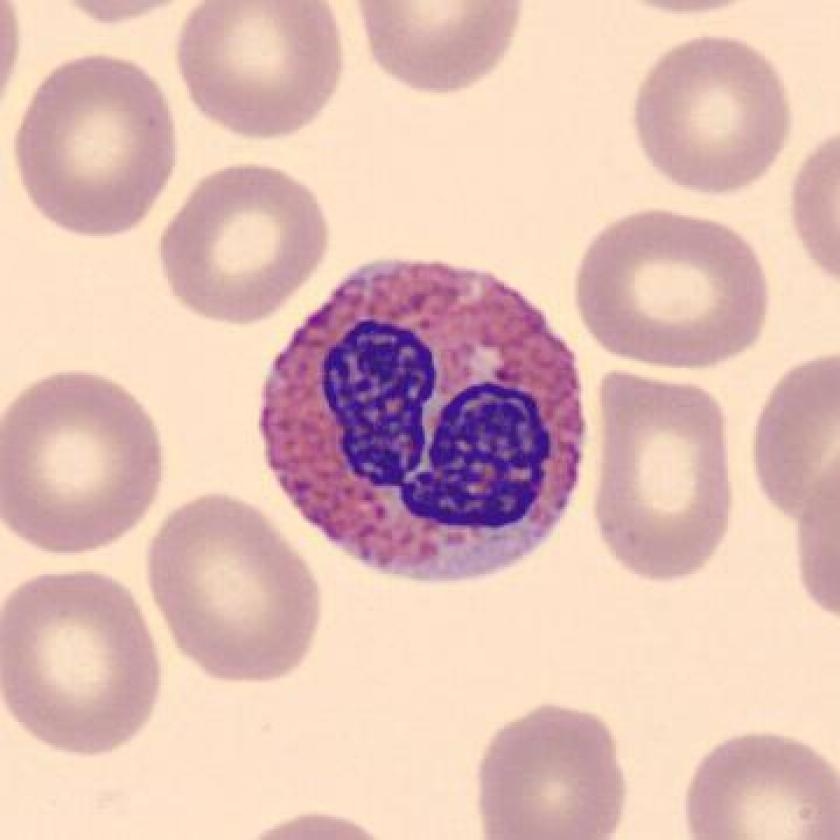eosinophil: (244, 242, 603, 596)
